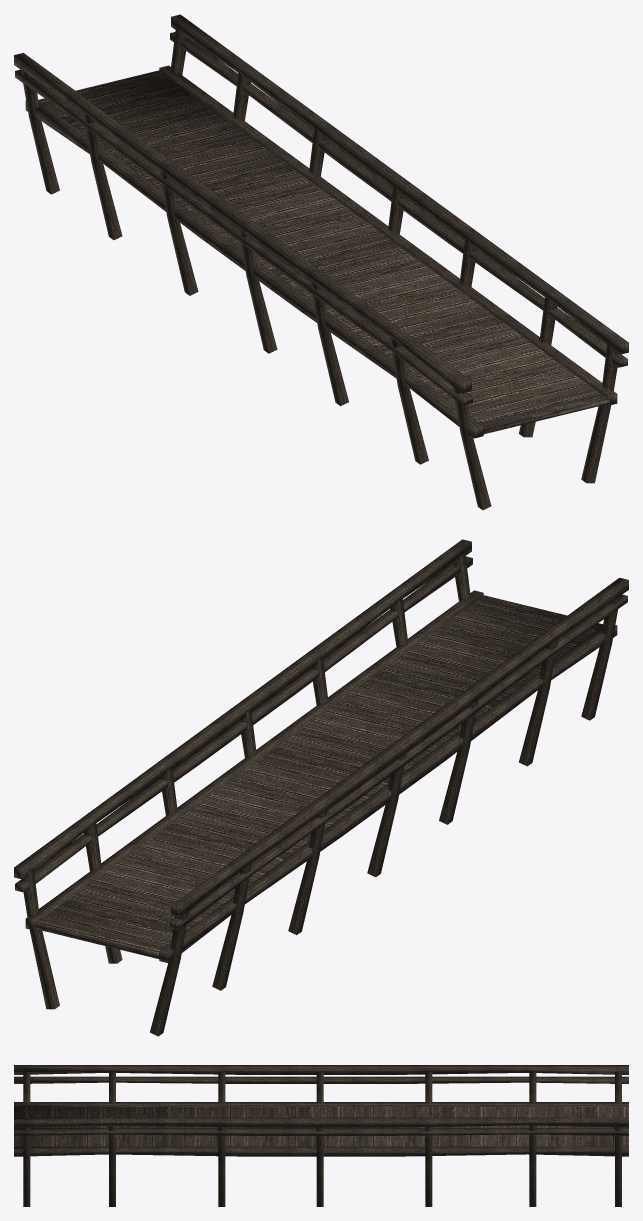
File: bridge.FBX
3 renders of one model, top to bottom at view 1: azimuth 30°, elevation 25°; view 2: azimuth 150°, elevation 25°; view 3: azimuth 270°, elevation 25°, orthographic. The views are drawn at different scales.
Size of the model in its own units: 353 by 281 by 1646.
Materials: 1 (1 with a texture image).
